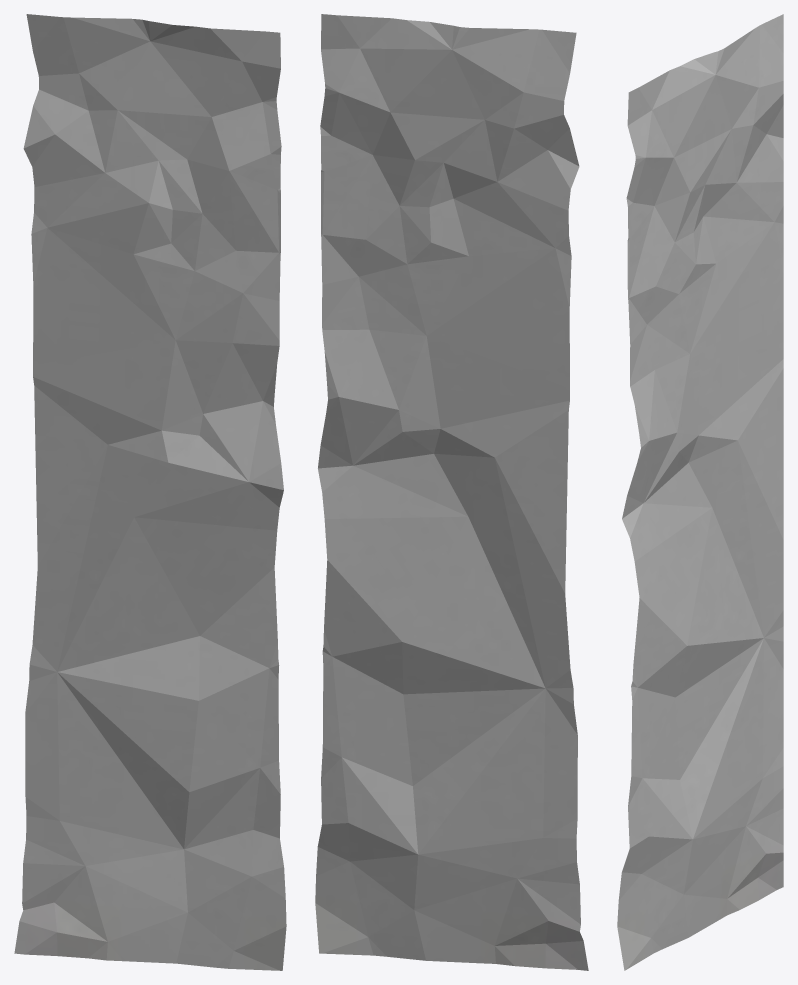
The picture shows the model from 3 angles, left to right: view 1: azimuth 30°, elevation 25°; view 2: azimuth 210°, elevation 25°; view 3: azimuth 270°, elevation 25°; orthographic projection. The views are drawn at different scales.
Size of the model in its own units: 0.1715 by 0.8373 by 0.1439.
1 material, 1 textured.
